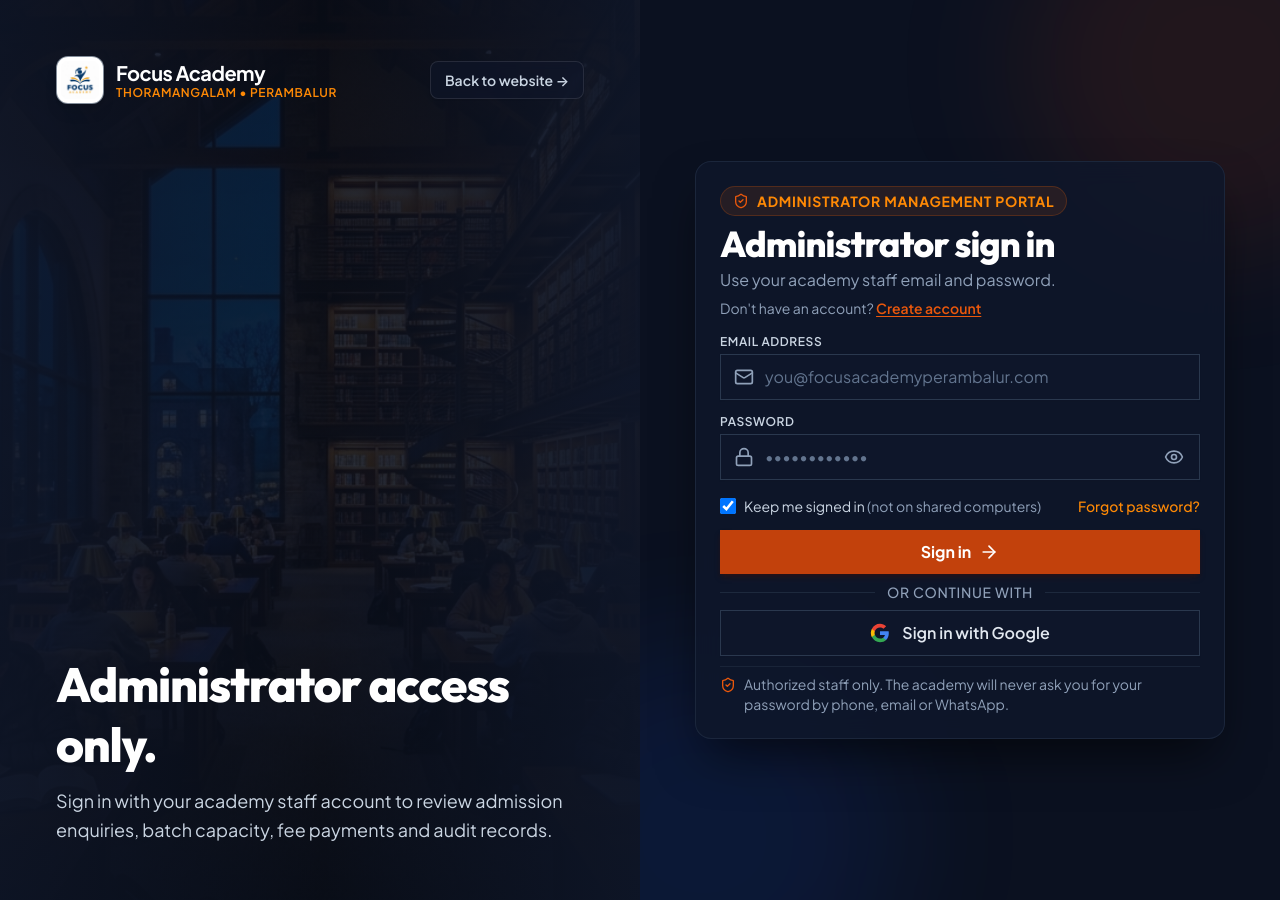
Test: Admin login page › shows one plain message for wrong password and unknown email
Step 1. Type "director@focusacademyperambalur.com" into the field labelled "Email address" → point(960, 377), box x1=720 y1=354 x2=1200 y2=400
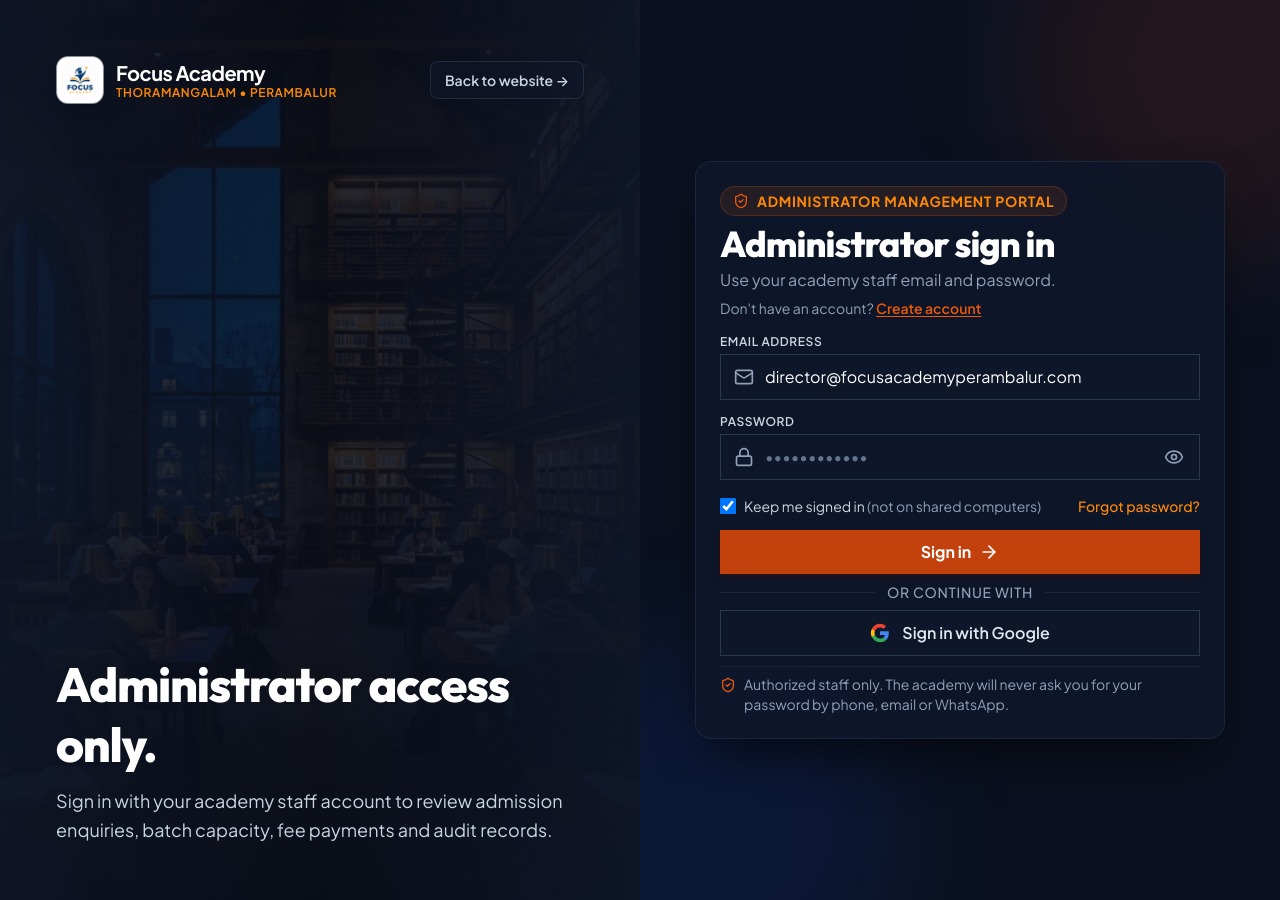
Step 2. Type "nope-nope-1" into the password field labelled "Password" → point(960, 457), box x1=720 y1=434 x2=1200 y2=480
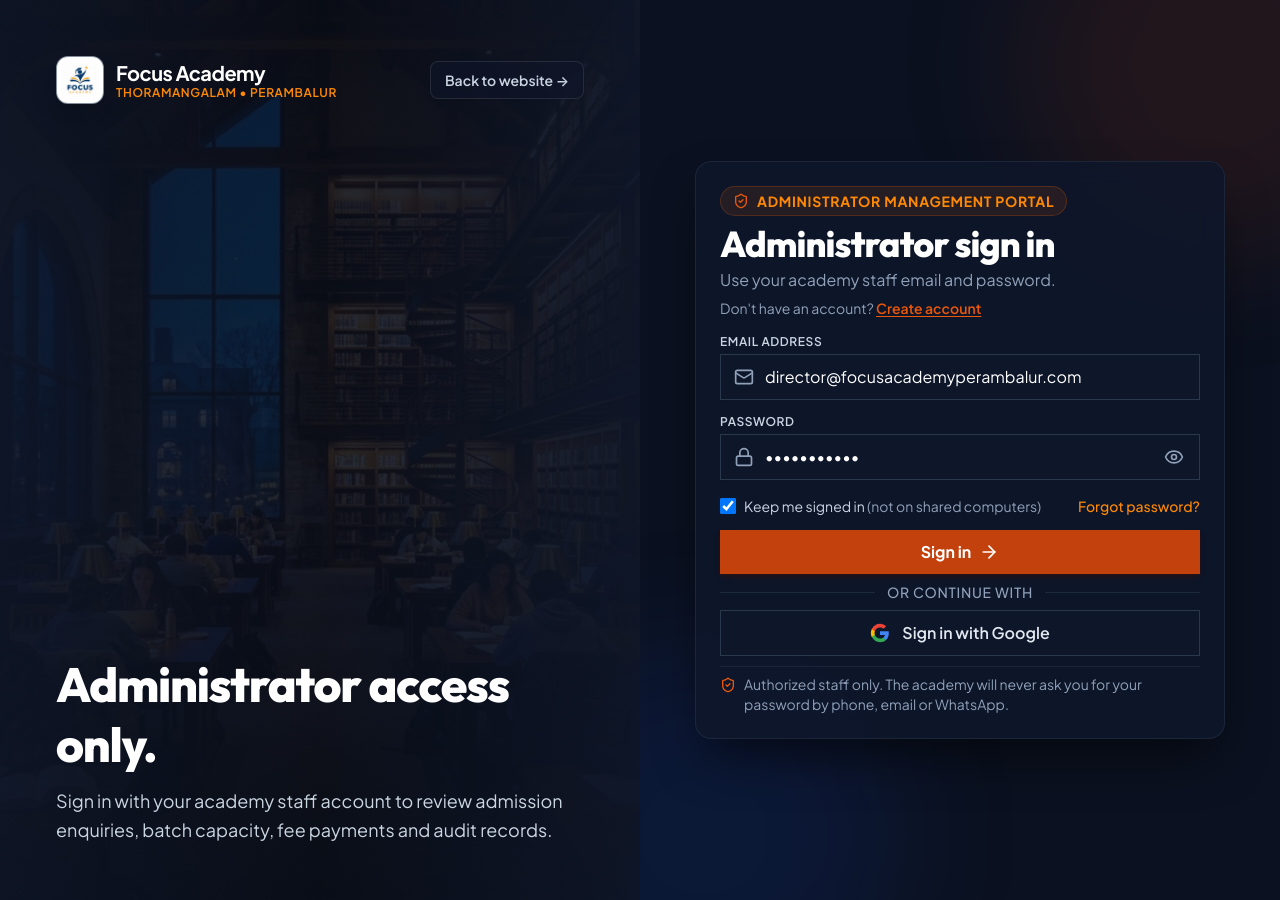
Step 3. Click the button "Sign in" → point(960, 552), box x1=720 y1=530 x2=1200 y2=574
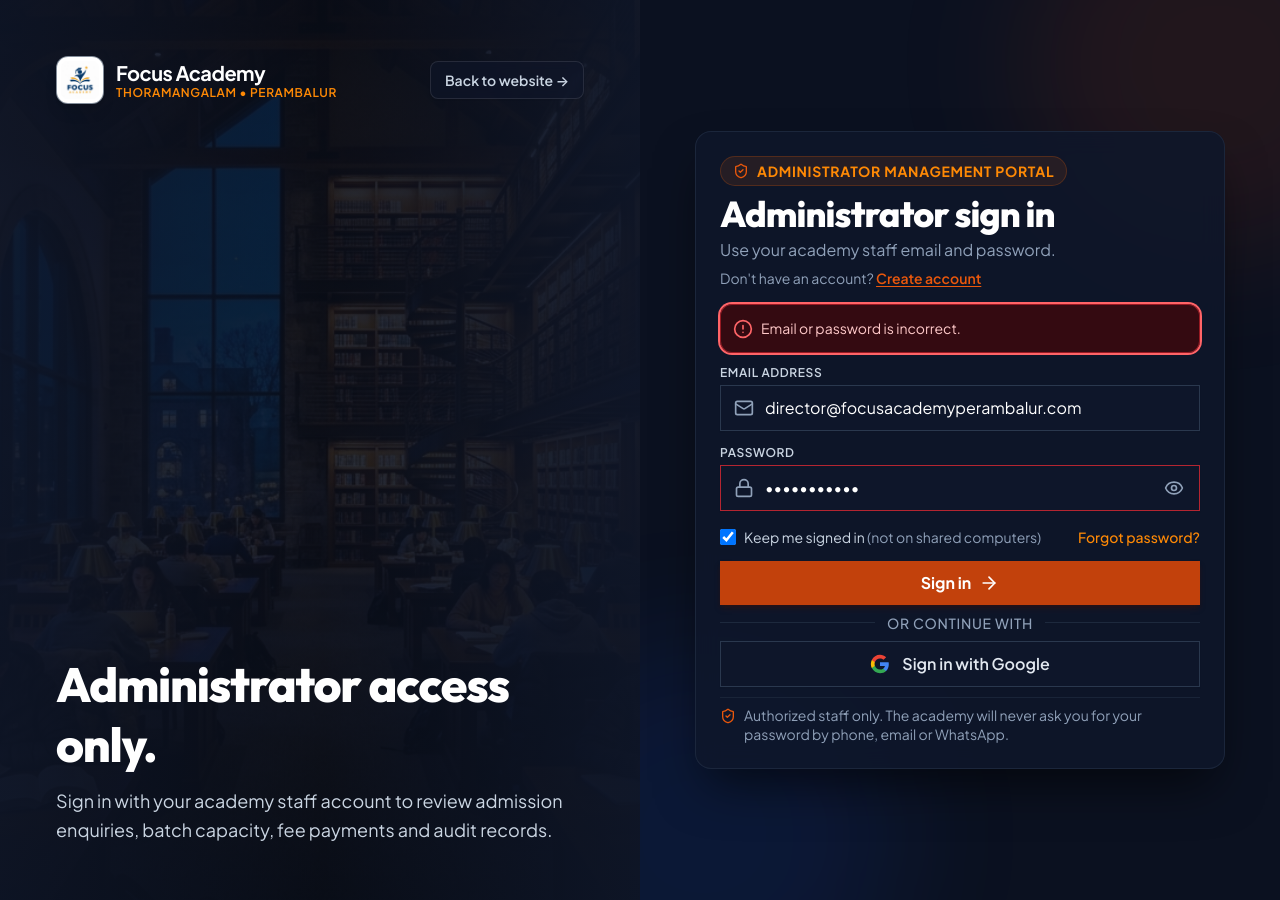
expect the message reads "Email or password is incorrect.": met, box x1=761 y1=319 x2=961 y2=337
